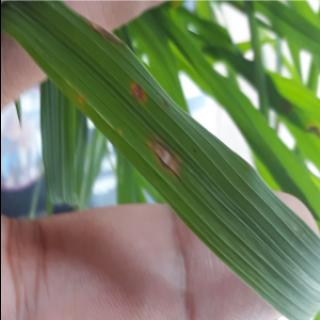Blast: (146, 139, 177, 176), (130, 82, 144, 101)
